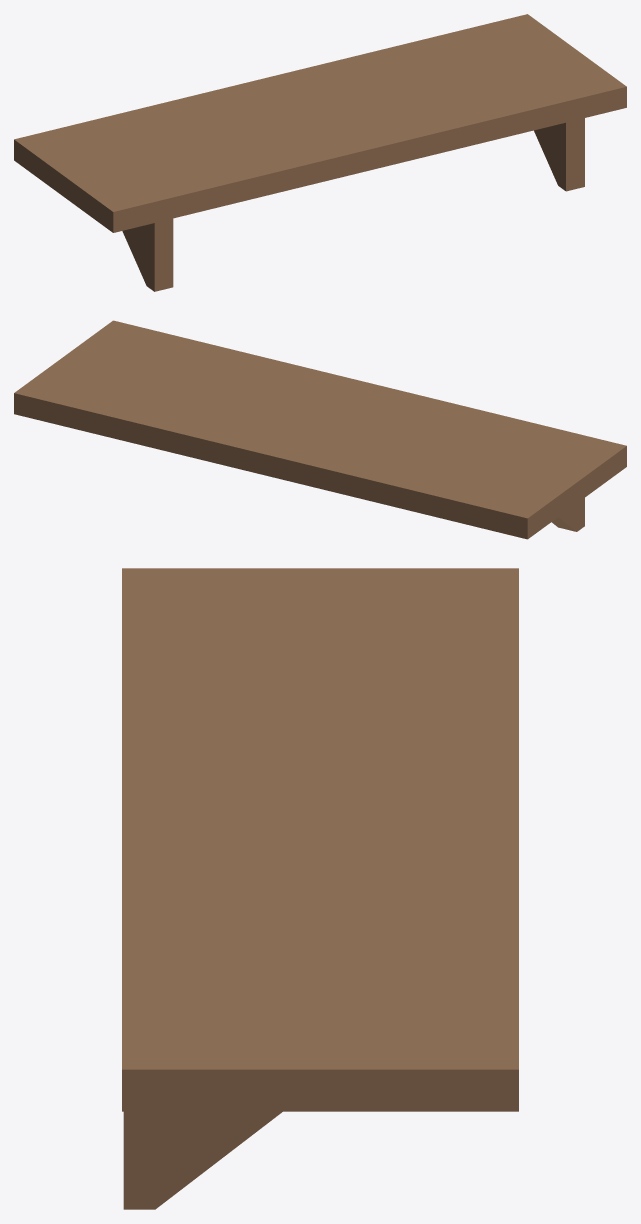
The model's file is wallshelf.fbx.
The picture shows the model from 3 angles, top to bottom: view 1: azimuth 30°, elevation 25°; view 2: azimuth 150°, elevation 25°; view 3: azimuth 270°, elevation 25°; orthographic projection. The views are drawn at different scales.
Parts seen in each view (by area): view 1: Bookshelf; view 2: Bookshelf; view 3: Bookshelf.
Part boxes in pixels (box(x1,y1,x2,y2)): Bookshelf: box(14, 14, 626, 291); Bookshelf: box(14, 320, 626, 539); Bookshelf: box(122, 568, 518, 1209).
Bounding box in the file's own units: 397 × 66.72 × 133.
